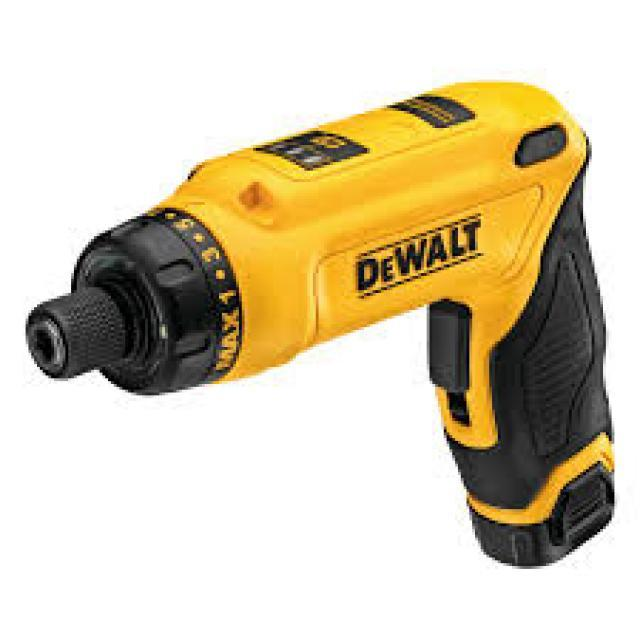drill: (0, 67, 637, 574)
